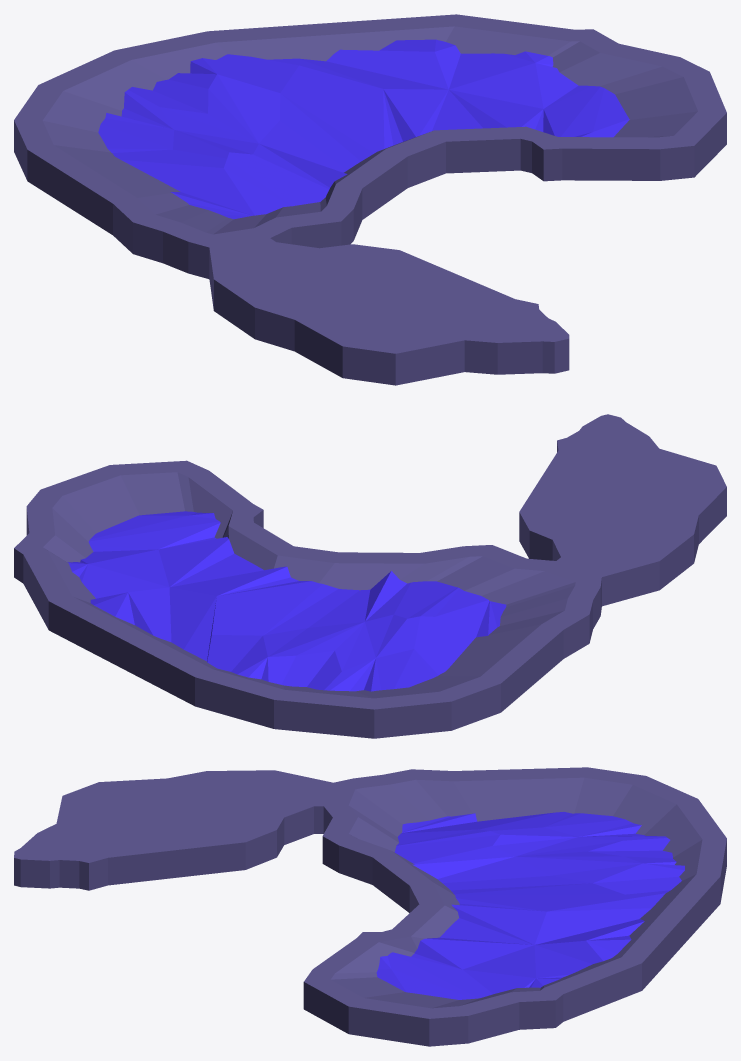
Rendered from VL_Ground04.fbx.
3 renders of one model, top to bottom at view 1: azimuth 30°, elevation 25°; view 2: azimuth 150°, elevation 25°; view 3: azimuth 270°, elevation 25°, orthographic. The views are drawn at different scales.
Parts seen in each view (by area): view 1: VL_Ground04; view 2: VL_Ground04; view 3: VL_Ground04.
Part boxes in pixels (left/top/right/bottom): VL_Ground04: left=14, top=14, right=726, bottom=385; VL_Ground04: left=14, top=414, right=726, bottom=738; VL_Ground04: left=14, top=767, right=726, bottom=1046.
Bounding box in the file's own units: 292 × 15 × 350.
1 material, 1 textured.
